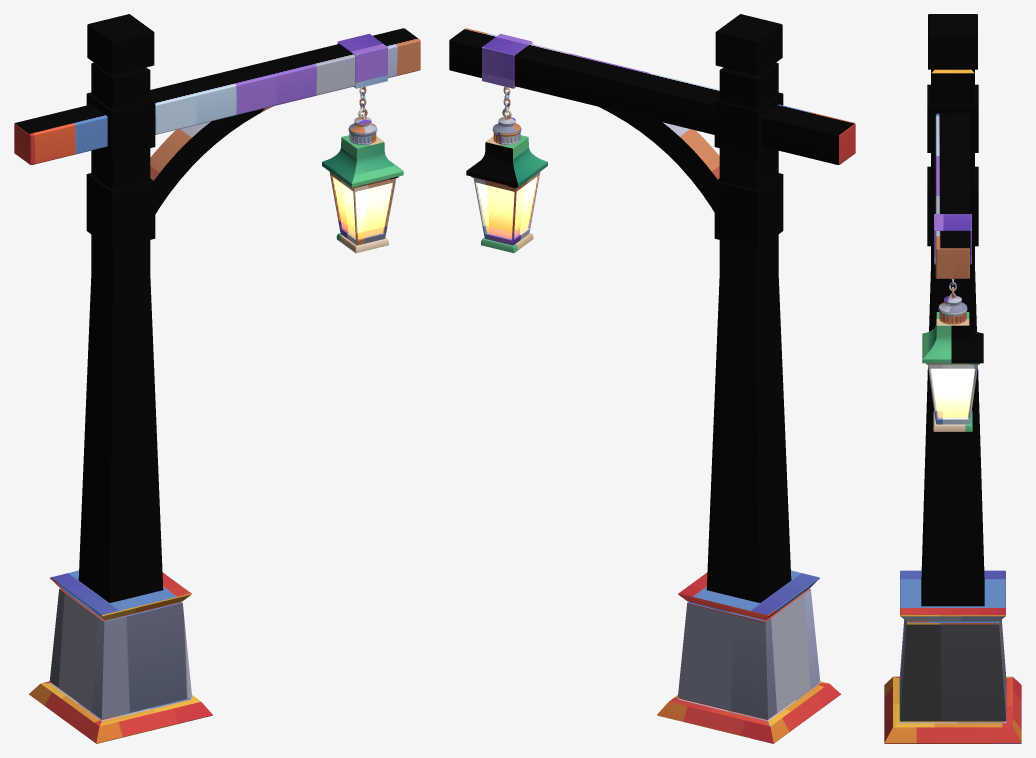
File: lamp.glb
3 views of the same model, side by side, from view 1: azimuth 30°, elevation 25°; view 2: azimuth 150°, elevation 25°; view 3: azimuth 270°, elevation 25° (orthographic).
Parts seen in each view (by area): view 1: LanternPole_Body, LanternPole_Lantern; view 2: LanternPole_Body, LanternPole_Lantern; view 3: LanternPole_Body, LanternPole_Lantern.
Part boxes in pixels (x1,y1,x2,y2): LanternPole_Body: (14, 14, 420, 743); LanternPole_Lantern: (322, 108, 403, 253); LanternPole_Body: (449, 14, 855, 743); LanternPole_Lantern: (466, 108, 547, 253); LanternPole_Body: (884, 14, 1021, 743); LanternPole_Lantern: (922, 287, 983, 431).
Bounding box in the file's own units: 15.49 × 25.66 × 4.63.
1 material, 1 textured.
